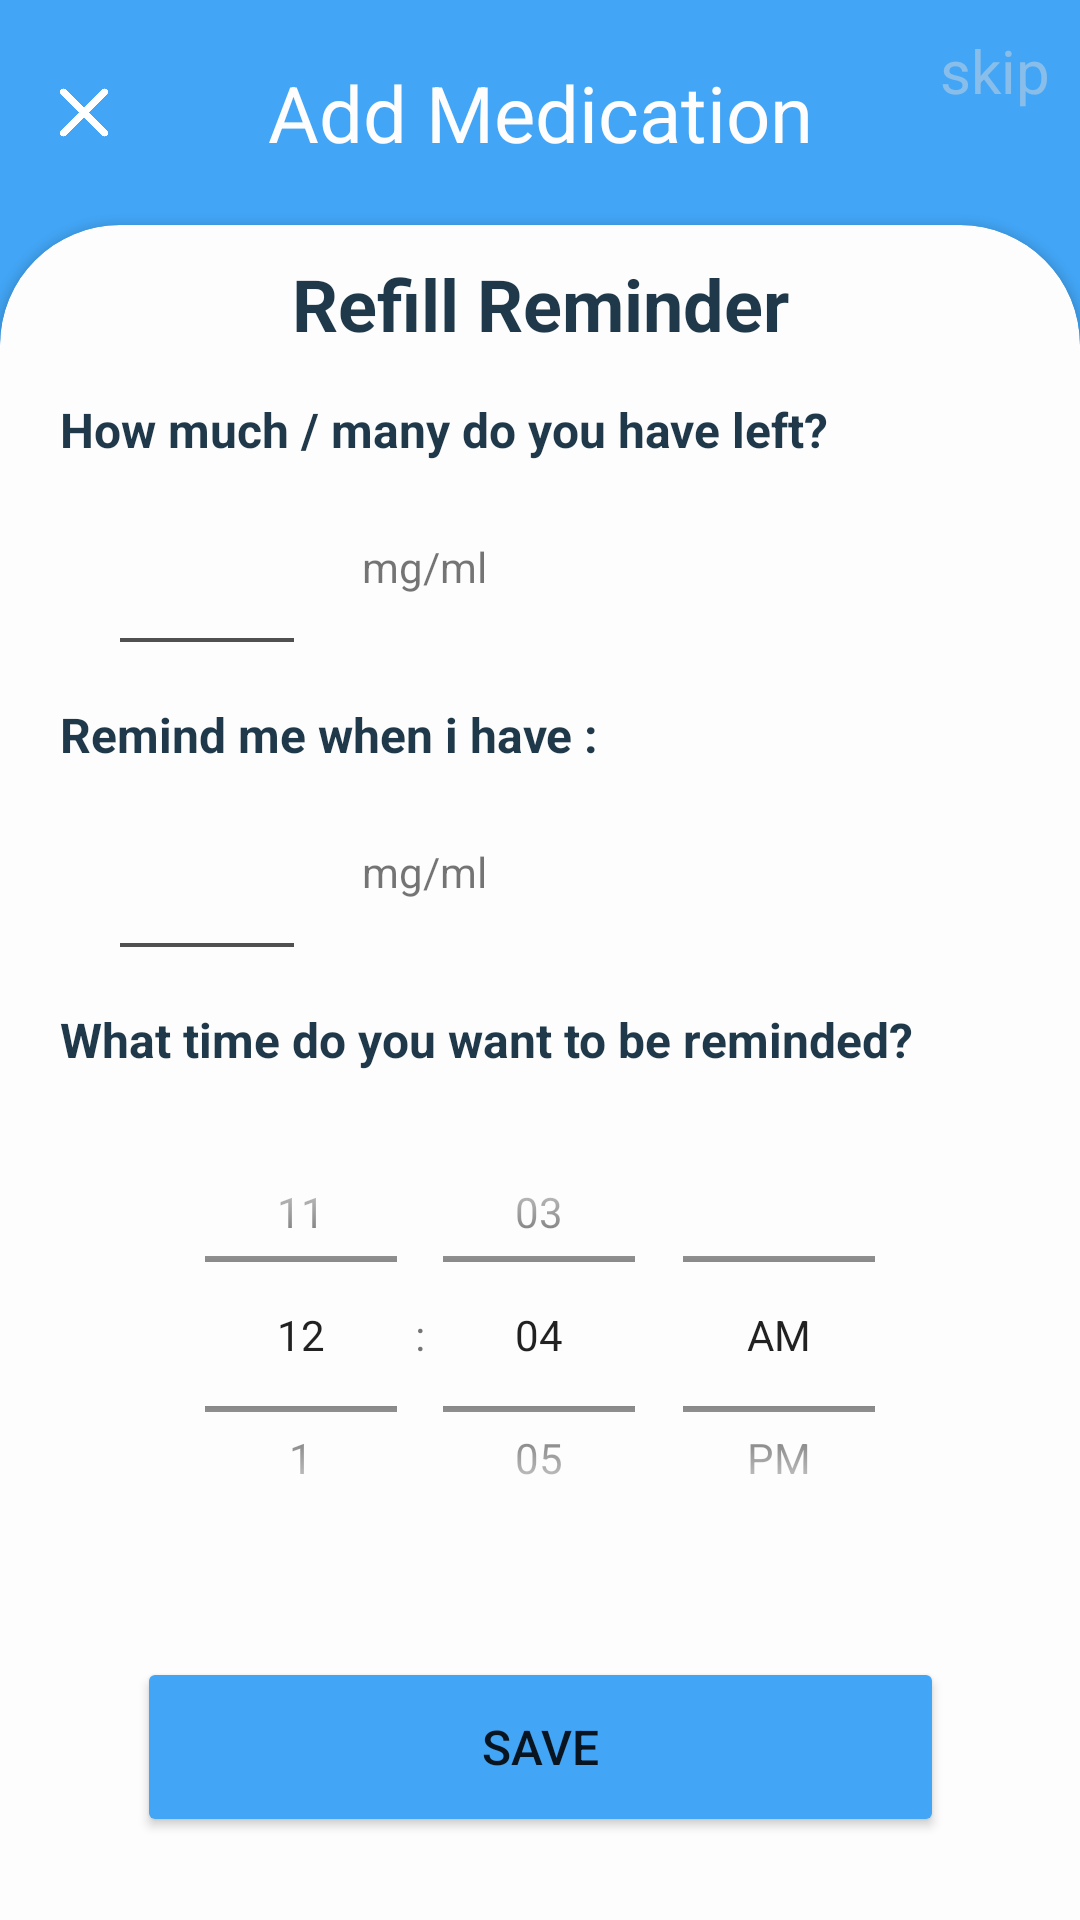

Icon click points for this 1080×1920 phone screenshot, format (x,y):
cancel: (84,112)
